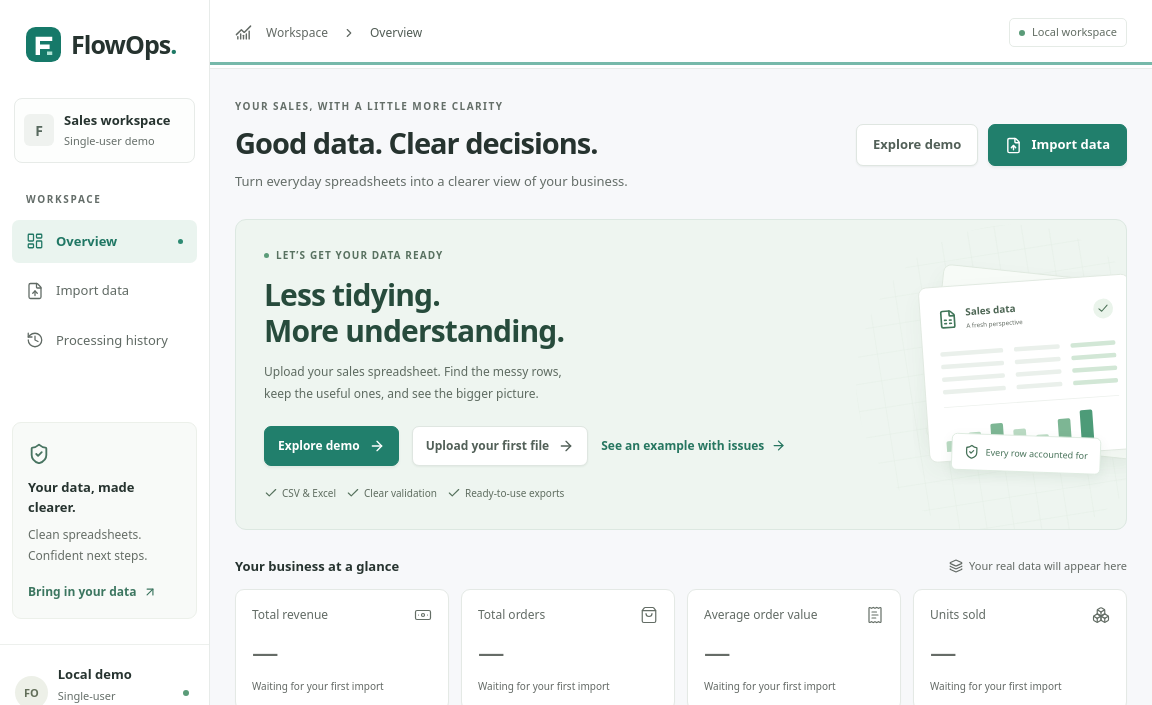
Test: opens an intentional empty dashboard and navigates to import data
The width and height of the screenshot is (1152, 705).
Check: the heading "Good data. Clear decisions." is shown, box left=235, top=124, right=628, bottom=162
Click the link "Upload your first file" at (500, 446), box left=412, top=426, right=588, bottom=466
(page scrolled)
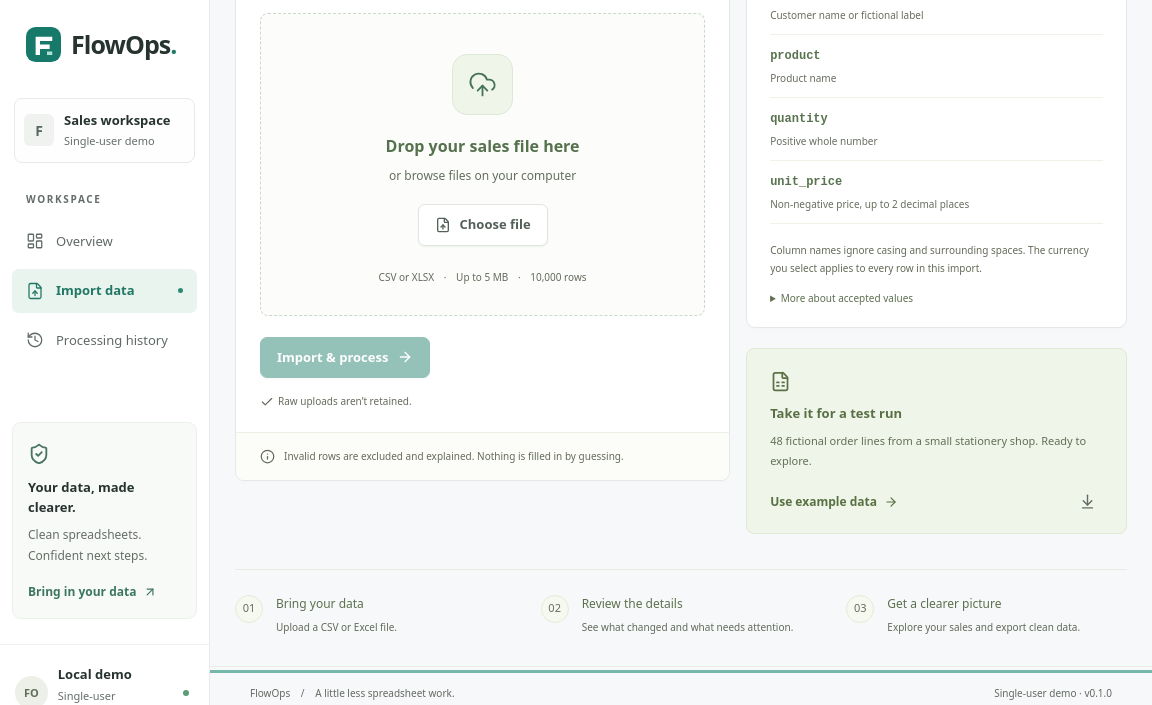
Check: the button "Import & process" is disabled, box left=260, top=337, right=430, bottom=378
